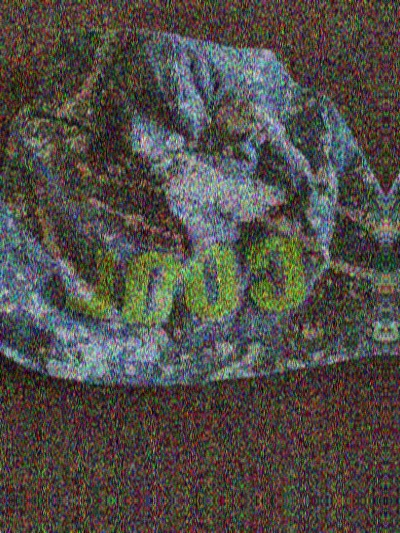Hat: (0, 24, 386, 397), (388, 25, 400, 397)
